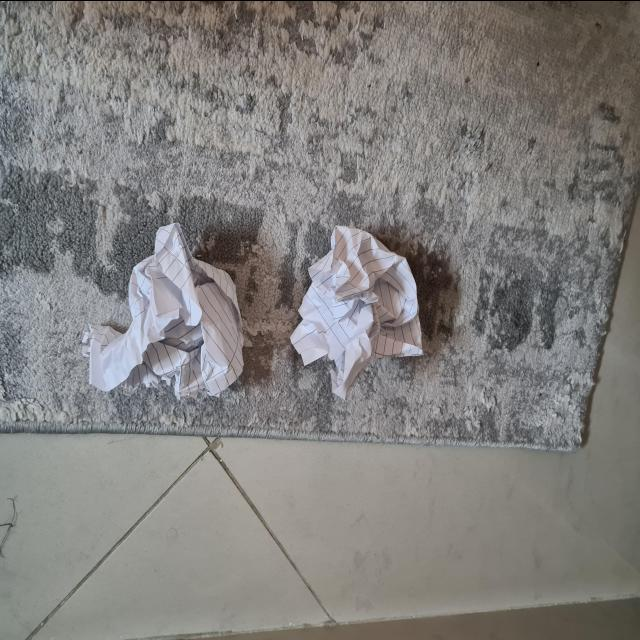kertas: (80, 239, 242, 402), (290, 230, 415, 382)
